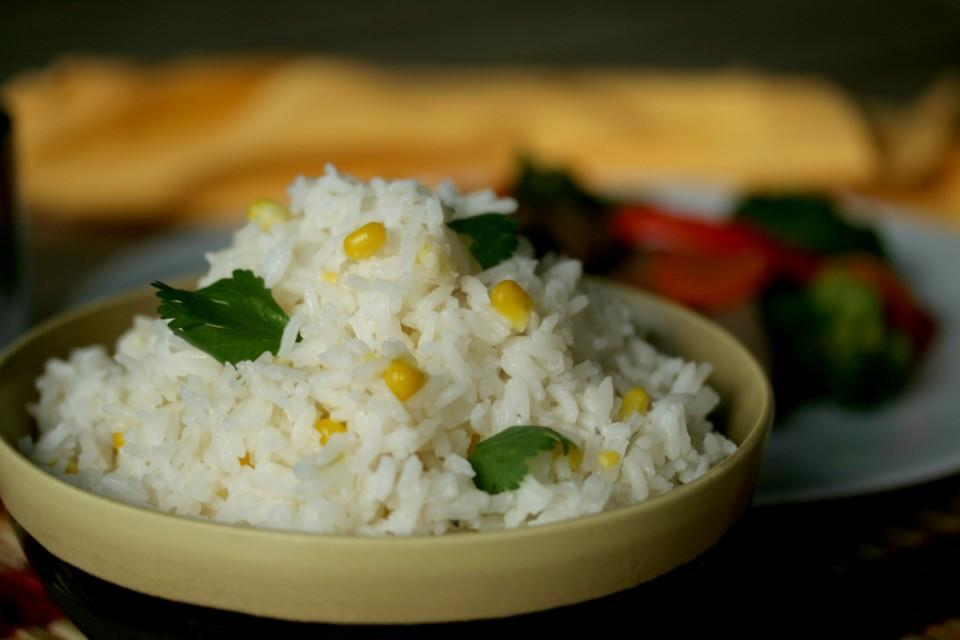WhiteRice: (13, 163, 740, 529)
